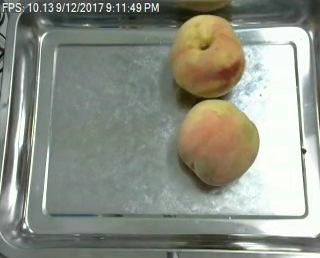Peach: (177, 97, 260, 186), (171, 13, 245, 96)
